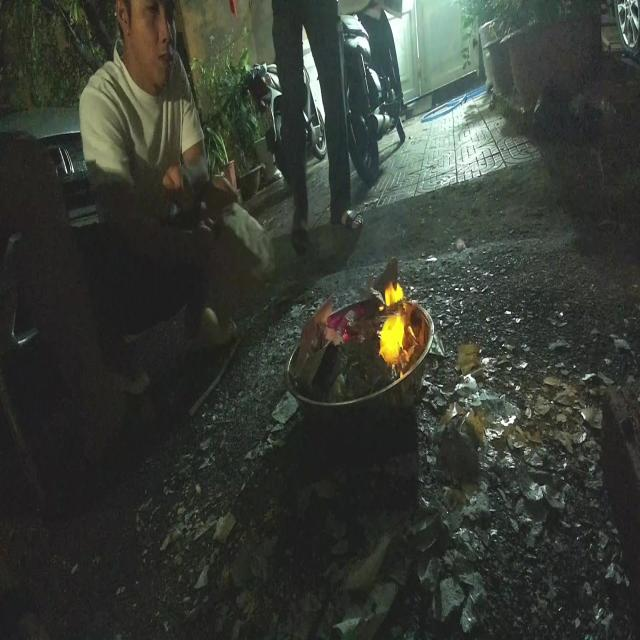Fire: (381, 279, 406, 364)
